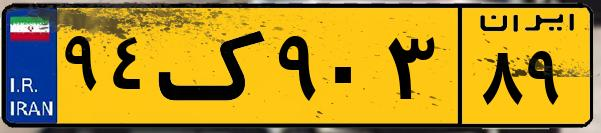0: (330, 28, 385, 110)
3: (385, 28, 445, 110)
4: (110, 28, 158, 98)
8: (475, 38, 525, 113)
9: (270, 28, 330, 110), (57, 26, 110, 100), (525, 38, 570, 115)
ک: (158, 12, 270, 120)
